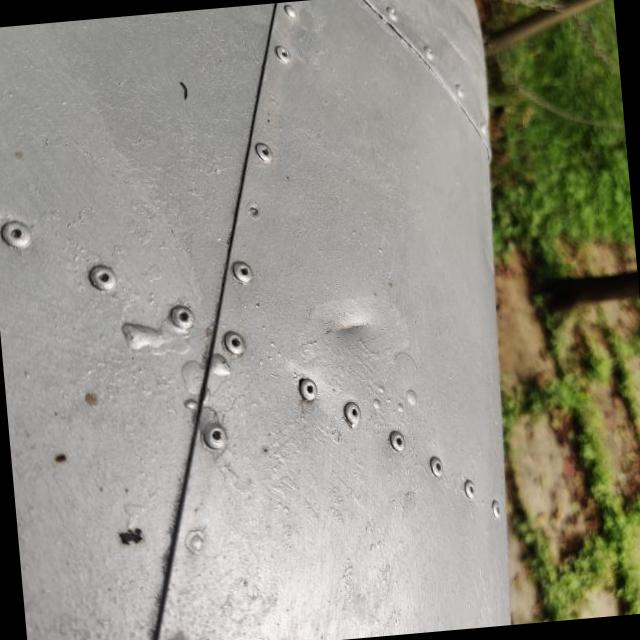Dent: (307, 293, 408, 372)
